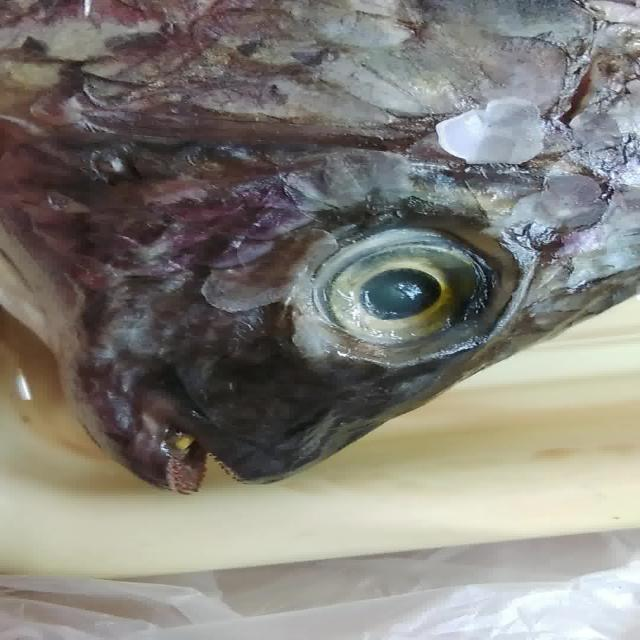Non-Fresh: (18, 3, 344, 481), (271, 172, 543, 401)
